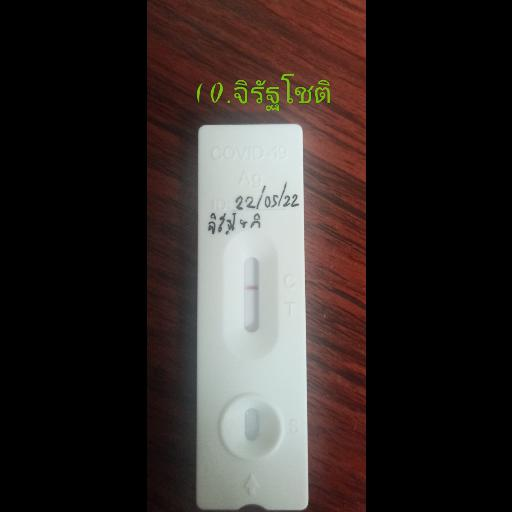Neg: (198, 123, 308, 511)
